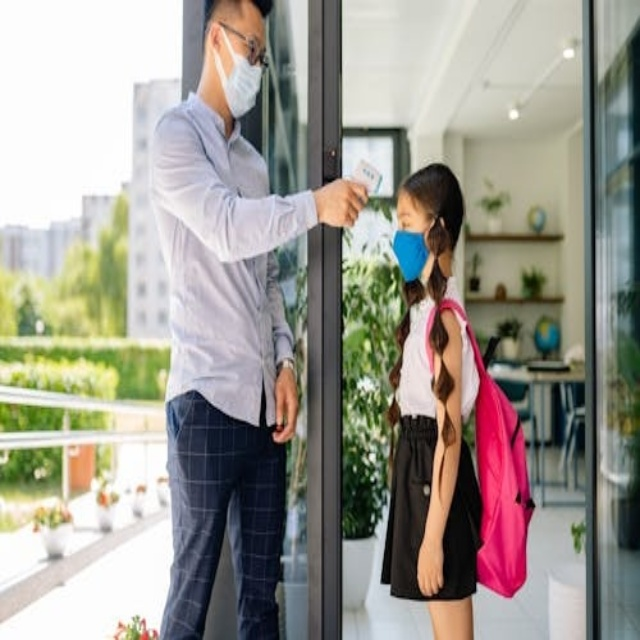Gafas: (214, 21, 269, 69)
Mascara: (212, 26, 263, 118), (393, 227, 434, 283)
Sin_gafas: (393, 204, 422, 227)
Sin_guantes: (269, 363, 303, 448), (319, 177, 370, 231), (415, 532, 445, 600)
